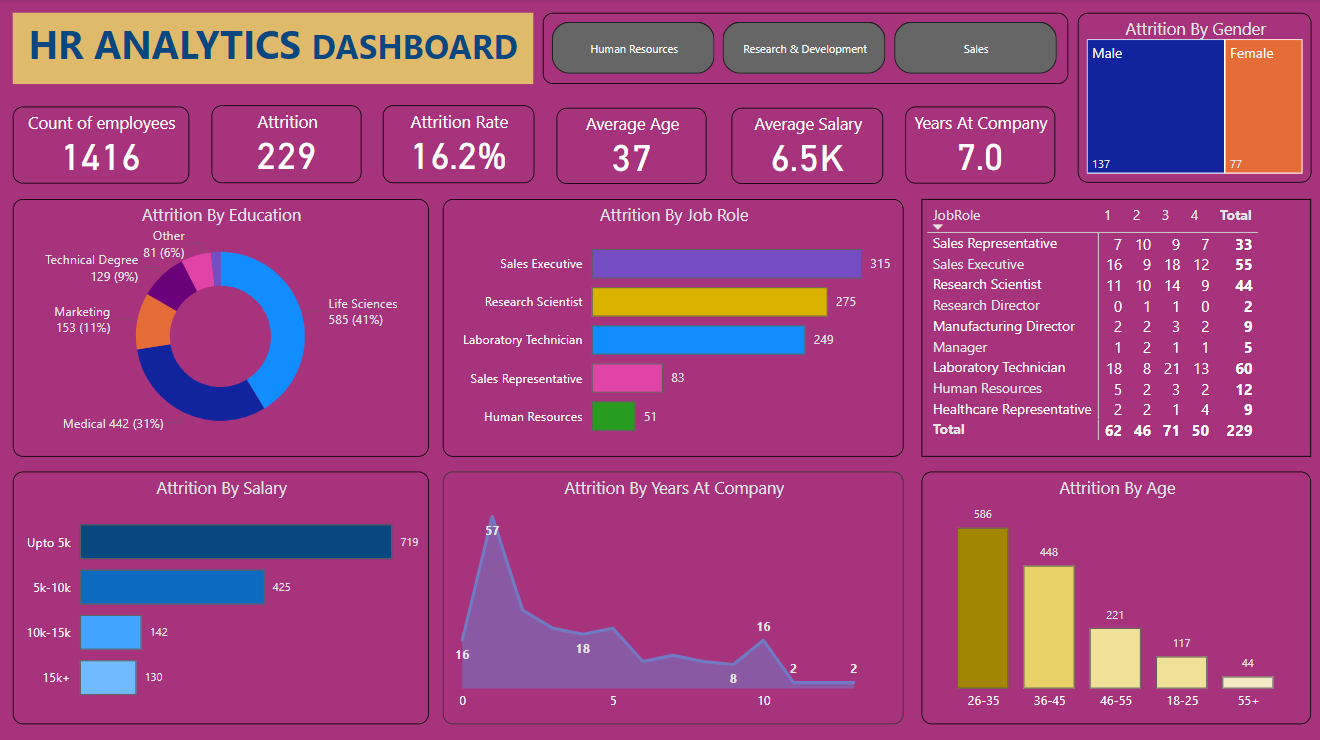

The page's visual inventory and layout, read from the dashboard file:
{"tool":"powerbi","page":{"name":"Page 1","canvas":[1280,720],"ordinal":0},"visuals":[{"type":"card","title":"Count of employees","fields":{"Values":["CountNonNull(HR_Analytics.EmpID)"]},"box":[13.6,103.7,170,74.1],"z":0},{"type":"card","title":"Average Age","fields":{"Values":["Avg(HR_Analytics.Age)"]},"box":[537.5,105,145,73.8],"z":1000},{"type":"card","title":"Attrition","fields":{"Values":["Sum(HR_Analytics.AttritionCount)"]},"box":[205,102.5,145,75],"z":2000},{"type":"card","title":"Attrition Rate","fields":{"Values":["HR_Analytics.AttritionRate"]},"box":[370,102.5,146.2,75],"z":3000},{"type":"card","title":"Average Salary","fields":{"Values":["Avg(HR_Analytics.MonthlyIncome)"]},"box":[707.5,105,146.2,73.8],"z":4000},{"type":"card","title":"Years At Company","fields":{"Values":["Avg(HR_Analytics.YearsAtCompany)"]},"box":[874.1,103.7,144.4,74.1],"z":5000},{"type":"donutChart","title":"Attrition By Education","fields":{"Category":["HR_Analytics.EducationField"],"Y":["CountNonNull(HR_Analytics.Attrition)"]},"box":[13.8,192.5,401.2,248.8],"z":6000},{"type":"columnChart","title":"Attrition By Age","fields":{"Category":["HR_Analytics.AgeGroup"],"Y":["CountNonNull(HR_Analytics.Attrition)"]},"box":[890,456.2,376.2,243.8],"z":7000},{"type":"pivotTable","fields":{"Rows":["HR_Analytics.JobRole"],"Columns":["HR_Analytics.JobSatisfaction"],"Values":["Sum(HR_Analytics.AttritionCount)"]},"box":[890,192.5,376.2,248.8],"z":8000},{"type":"barChart","title":"Attrition By Salary","fields":{"Category":["HR_Analytics.SalarySlab"],"Y":["CountNonNull(HR_Analytics.Attrition)"]},"box":[13.8,456.2,401.2,243.8],"z":9000},{"type":"barChart","title":"Attrition By Job Role","fields":{"Category":["HR_Analytics.JobRole"],"Y":["CountNonNull(HR_Analytics.Attrition)"]},"box":[428.8,192.5,445,248.8],"z":10000},{"type":"areaChart","title":"Attrition By Years At Company","fields":{"Category":["HR_Analytics.YearsAtCompany"],"Y":["Sum(HR_Analytics.AttritionCount)"]},"box":[428.8,456.2,445,243.8],"z":11000},{"type":"treemap","title":"Attrition By Gender","fields":{"Group":["HR_Analytics.Gender"],"Values":["Sum(HR_Analytics.AttritionCount)"]},"box":[1040.7,13.6,225.9,164.2],"z":12000},{"type":"advancedSlicerVisual","fields":{"Values":["HR_Analytics.Department"]},"box":[525,13.8,507.5,68.8],"z":13000},{"type":"textbox","box":[13.8,13.8,502.5,68.8],"z":14000}]}

Visuals, with their boxes in screenshot pixels (x1, y1, x2, y2), scaled from the page's 1280x720 canvas onto the 1320x740 screenshot:
"Count of employees" card: <bbox>14, 107, 189, 183</bbox>
"Average Age" card: <bbox>554, 108, 704, 184</bbox>
"Attrition" card: <bbox>211, 105, 361, 182</bbox>
"Attrition Rate" card: <bbox>382, 105, 532, 182</bbox>
"Average Salary" card: <bbox>730, 108, 880, 184</bbox>
"Years At Company" card: <bbox>901, 107, 1050, 183</bbox>
"Attrition By Education" donutChart: <bbox>14, 198, 428, 454</bbox>
"Attrition By Age" columnChart: <bbox>918, 469, 1306, 719</bbox>
pivotTable - HR_Analytics.JobRole x HR_Analytics.JobSatisfaction: <bbox>918, 198, 1306, 454</bbox>
"Attrition By Salary" barChart: <bbox>14, 469, 428, 719</bbox>
"Attrition By Job Role" barChart: <bbox>442, 198, 901, 454</bbox>
"Attrition By Years At Company" areaChart: <bbox>442, 469, 901, 719</bbox>
"Attrition By Gender" treemap: <bbox>1073, 14, 1306, 183</bbox>
advancedSlicerVisual - HR_Analytics.Department: <bbox>541, 14, 1065, 85</bbox>
textbox: <bbox>14, 14, 532, 85</bbox>
